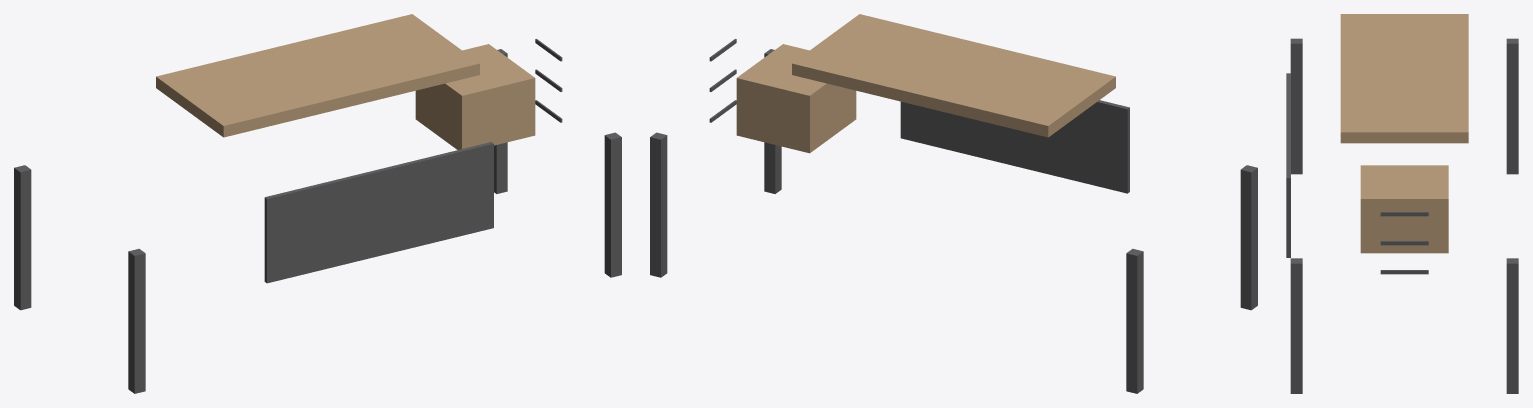
The model's file is p2s_desk_oak.glb.
The picture shows the model from 3 angles, left to right: view 1: azimuth 30°, elevation 25°; view 2: azimuth 150°, elevation 25°; view 3: azimuth 270°, elevation 25°; orthographic projection. The views are drawn at different scales.
Visible parts, largest first — view 1: TableTop, BackPanel, DrawerUnit, Leg_3, Leg_2, Leg_1, Leg_4; view 2: TableTop, BackPanel, DrawerUnit, Leg_1, Leg_4, Leg_3, Leg_2; view 3: TableTop, DrawerUnit, Leg_3, Leg_2, Leg_4, Leg_1, BackPanel, HandleGroove_50, HandleGroove_57, HandleGroove_66.
Boxes of the visible parts, bbox=[...] form: TableTop: bbox=[156, 14, 479, 137]; BackPanel: bbox=[264, 142, 493, 283]; DrawerUnit: bbox=[415, 44, 535, 149]; Leg_3: bbox=[14, 165, 31, 310]; Leg_2: bbox=[604, 132, 621, 277]; Leg_1: bbox=[128, 248, 145, 393]; Leg_4: bbox=[494, 49, 507, 193]; TableTop: bbox=[792, 14, 1115, 137]; BackPanel: bbox=[900, 100, 1129, 193]; DrawerUnit: bbox=[736, 44, 856, 153]; Leg_1: bbox=[1240, 165, 1257, 310]; Leg_4: bbox=[650, 132, 667, 277]; Leg_3: bbox=[1126, 248, 1143, 393]; Leg_2: bbox=[764, 49, 781, 193]; TableTop: bbox=[1340, 14, 1468, 143]; DrawerUnit: bbox=[1360, 165, 1448, 253]; Leg_3: bbox=[1506, 38, 1518, 174]; Leg_2: bbox=[1290, 258, 1302, 393]; Leg_4: bbox=[1506, 258, 1518, 393]; Leg_1: bbox=[1290, 38, 1302, 174]; BackPanel: bbox=[1286, 73, 1290, 257]; HandleGroove_50: bbox=[1380, 270, 1428, 274]; HandleGroove_57: bbox=[1380, 241, 1428, 245]; HandleGroove_66: bbox=[1380, 212, 1428, 216].
Bounding box in the file's own units: 1.33 × 0.575 × 0.581.
